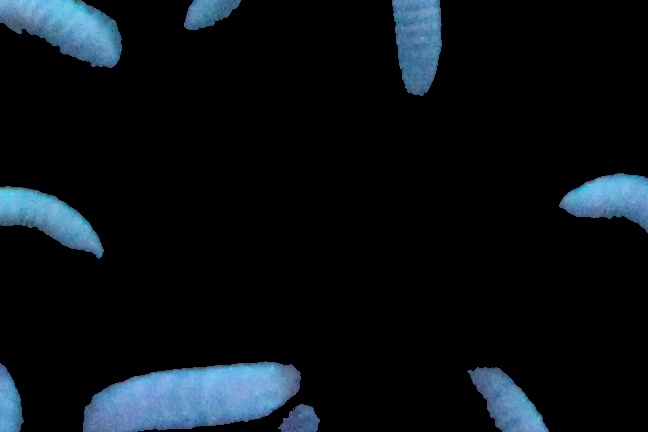larvae: (78, 357, 306, 432), (1, 184, 105, 264), (1, 1, 123, 69), (459, 358, 553, 432), (556, 164, 648, 235), (390, 1, 443, 101)
